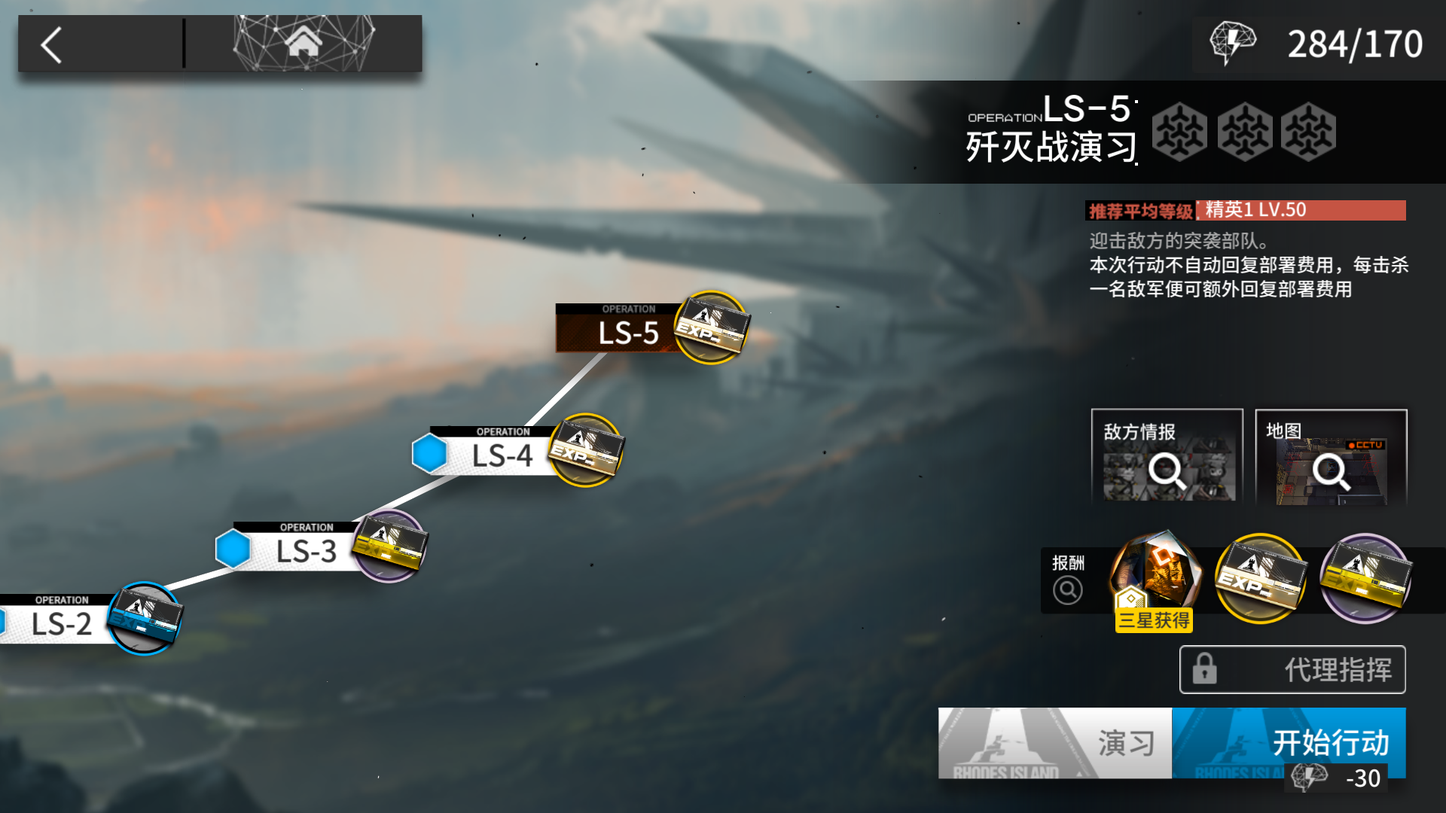Return_Button: (11, 16, 114, 75)
start_battle_button: (1183, 707, 1402, 780)
